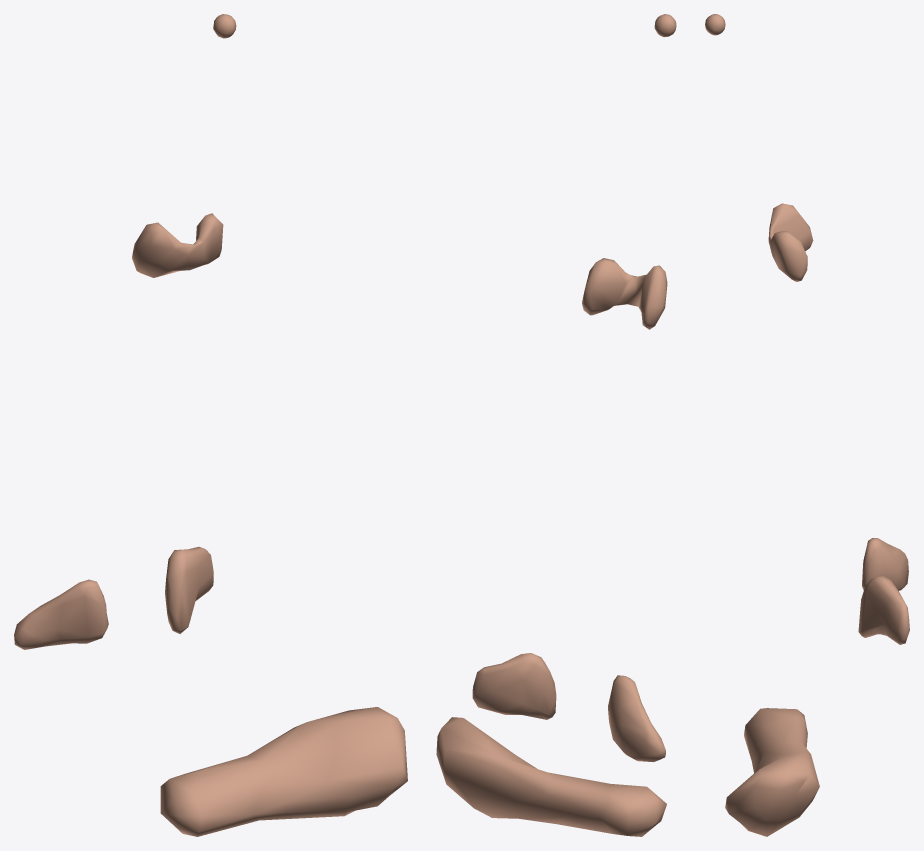
File: pediatric_infant_female.endocrine.LOD2.glb
The picture shows the model from 3 angles, left to right: view 1: azimuth 30°, elevation 25°; view 2: azimuth 150°, elevation 25°; view 3: azimuth 270°, elevation 25°; orthographic projection. The views are drawn at different scales.
Visible parts, largest first — view 1: PEDIATRIC.INFANT.FEMALE.ENDOCRINE.PANCREAS, PEDIATRIC.INFANT.FEMALE.ENDOCRINE.ADRENAL.R, PEDIATRIC.INFANT.FEMALE.ENDOCRINE.THYROID, PEDIATRIC.INFANT.FEMALE.ENDOCRINE.ADRENAL.L; view 2: PEDIATRIC.INFANT.FEMALE.ENDOCRINE.PANCREAS, PEDIATRIC.INFANT.FEMALE.ENDOCRINE.ADRENAL.L, PEDIATRIC.INFANT.FEMALE.ENDOCRINE.THYROID, PEDIATRIC.INFANT.FEMALE.ENDOCRINE.ADRENAL.R; view 3: PEDIATRIC.INFANT.FEMALE.ENDOCRINE.PANCREAS, PEDIATRIC.INFANT.FEMALE.ENDOCRINE.ADRENAL.L, PEDIATRIC.INFANT.FEMALE.ENDOCRINE.THYROID, PEDIATRIC.INFANT.FEMALE.ENDOCRINE.ADRENAL.R.
Part boxes in pixels (x1,y1,x2,y2): PEDIATRIC.INFANT.FEMALE.ENDOCRINE.PANCREAS: (160,707,407,836); PEDIATRIC.INFANT.FEMALE.ENDOCRINE.ADRENAL.R: (14,579,108,649); PEDIATRIC.INFANT.FEMALE.ENDOCRINE.THYROID: (132,213,223,277); PEDIATRIC.INFANT.FEMALE.ENDOCRINE.ADRENAL.L: (165,547,213,633); PEDIATRIC.INFANT.FEMALE.ENDOCRINE.PANCREAS: (436,717,666,836); PEDIATRIC.INFANT.FEMALE.ENDOCRINE.ADRENAL.L: (472,653,556,719); PEDIATRIC.INFANT.FEMALE.ENDOCRINE.THYROID: (582,258,667,329); PEDIATRIC.INFANT.FEMALE.ENDOCRINE.ADRENAL.R: (608,675,665,761); PEDIATRIC.INFANT.FEMALE.ENDOCRINE.PANCREAS: (725,708,819,836); PEDIATRIC.INFANT.FEMALE.ENDOCRINE.ADRENAL.L: (858,576,909,644); PEDIATRIC.INFANT.FEMALE.ENDOCRINE.THYROID: (768,203,813,281); PEDIATRIC.INFANT.FEMALE.ENDOCRINE.ADRENAL.R: (862,538,908,590).
Size of the model in its own units: 0.1015 by 0.2684 by 0.0664.
